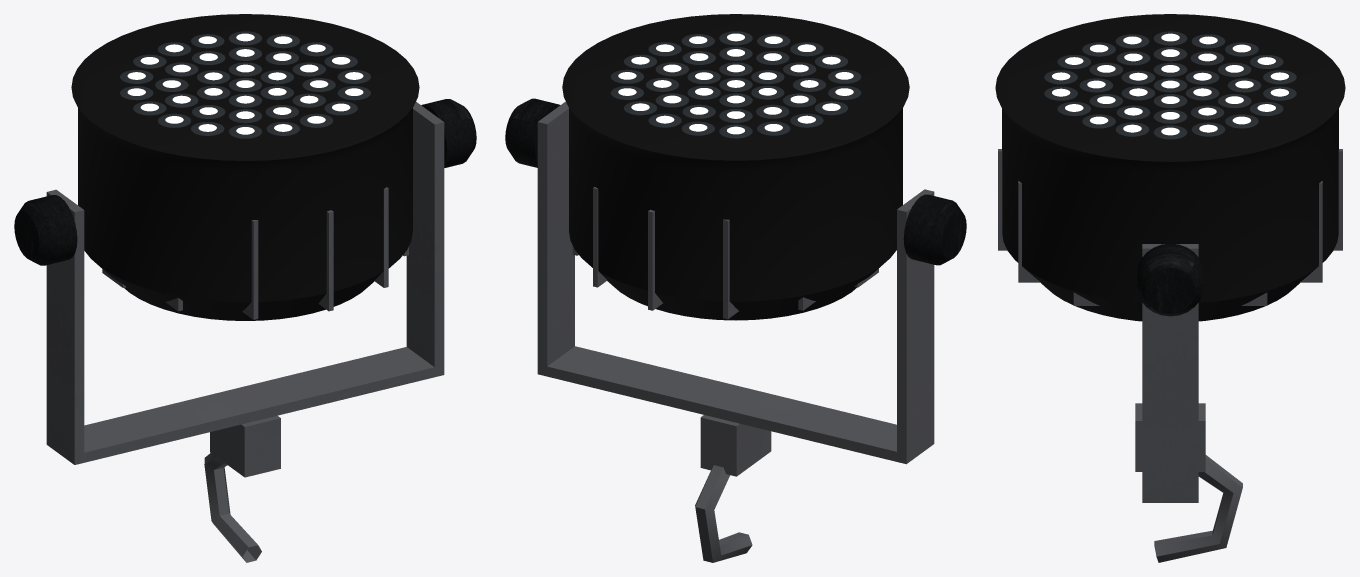
File: par_led.gltf
The picture shows the model from 3 angles, left to right: view 1: azimuth 30°, elevation 25°; view 2: azimuth 150°, elevation 25°; view 3: azimuth 270°, elevation 25°; orthographic projection.
Visible parts, largest first — view 1: par_led; view 2: par_led; view 3: par_led.
Part boxes in pixels (left/top/right/bottom): par_led: left=14, top=14, right=476, bottom=562; par_led: left=505, top=14, right=966, bottom=562; par_led: left=995, top=14, right=1345, bottom=562.
Size of the model in its own units: 0.362 by 0.3751 by 0.2496.
Materials: 5 (3 with a texture image).
